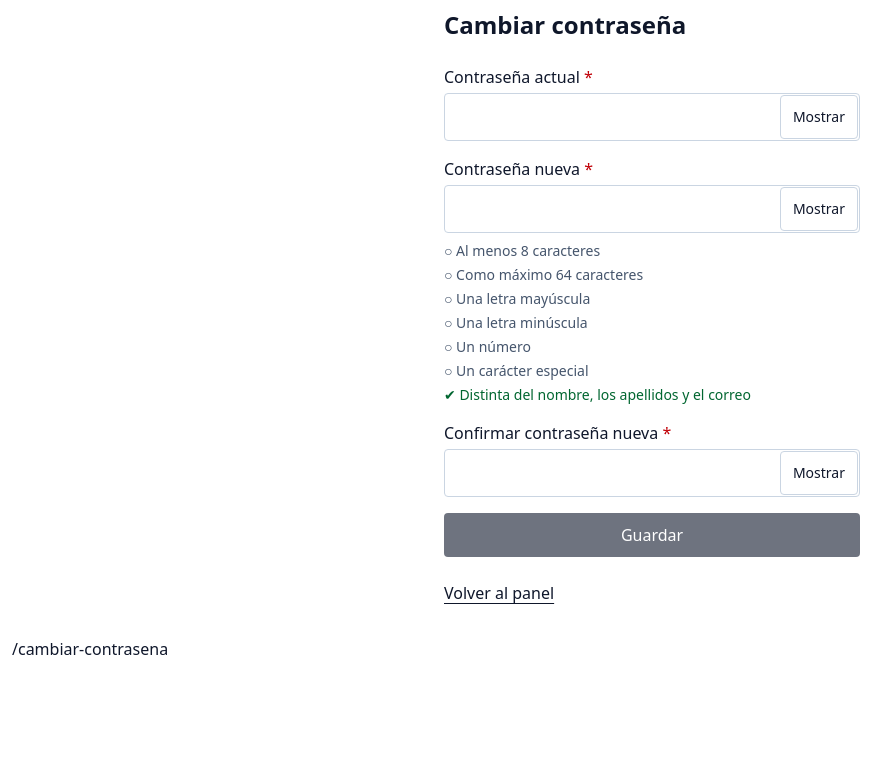
it: ChangePasswordPage › con la sesión expirada muestra su mensaje
In the password field labelled "Contraseña actual *": (652,117) top-left (444, 93), bottom-right (860, 141), type "vieja"
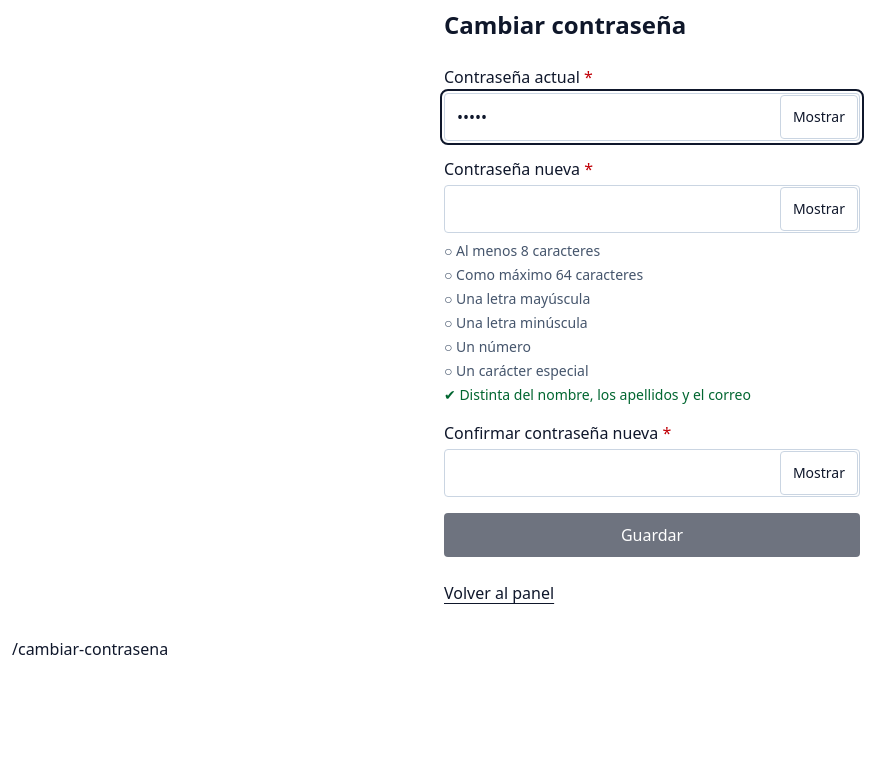
In the password field labelled "Contraseña nueva *": (652,209) top-left (444, 185), bottom-right (860, 233), type "Nueva.2026"
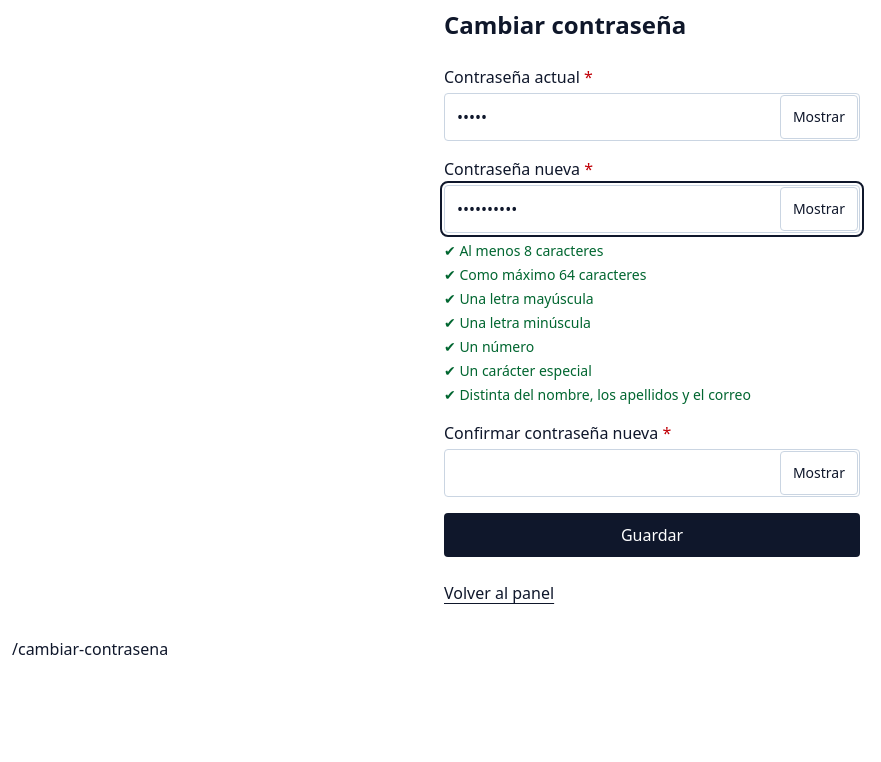
In the password field labelled "Confirmar contraseña nueva *": (652,473) top-left (444, 449), bottom-right (860, 497), type "Nueva.2026"
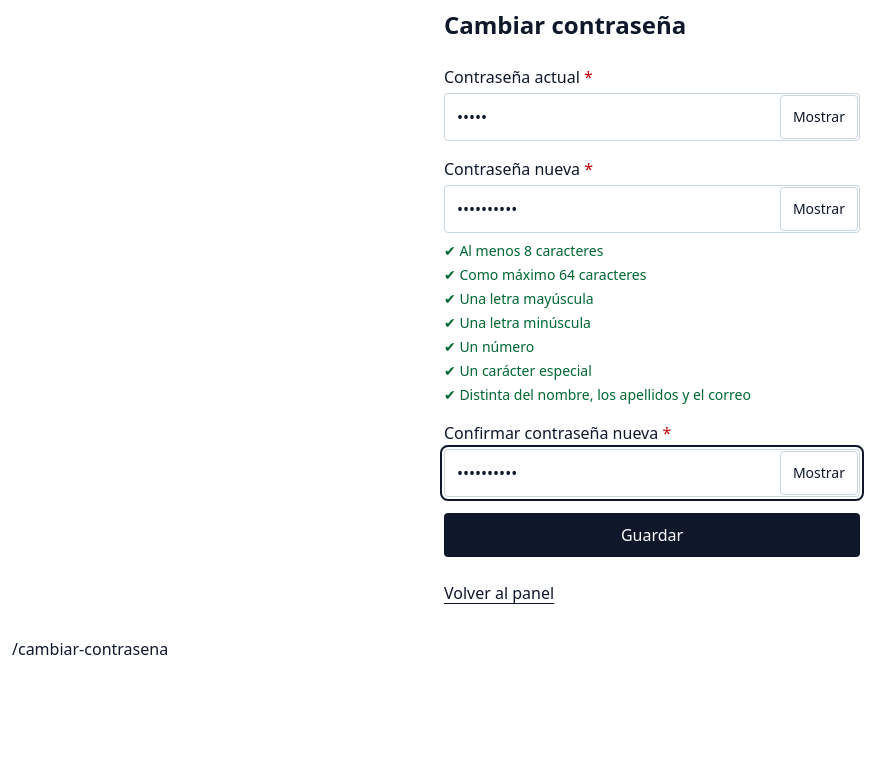
Click the button "Guardar": (652,535) top-left (444, 513), bottom-right (860, 557)
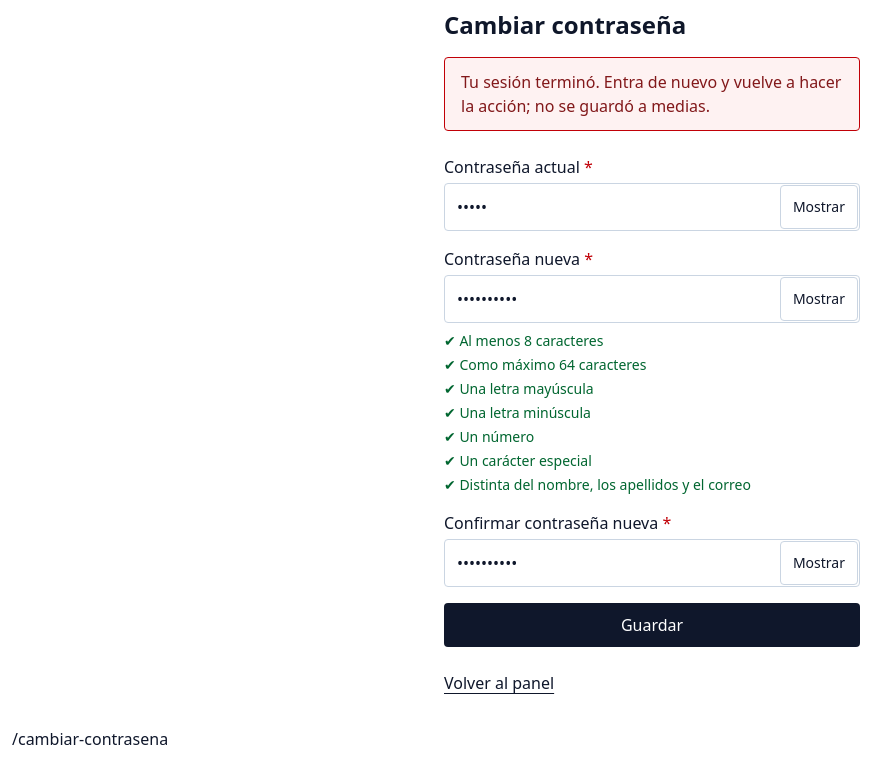
Expected: the text "Tu sesión terminó. Entra de nuevo y vuelve a hacer la acción; no se guardó a medias." is shown, top-left (461, 71), bottom-right (841, 117)
